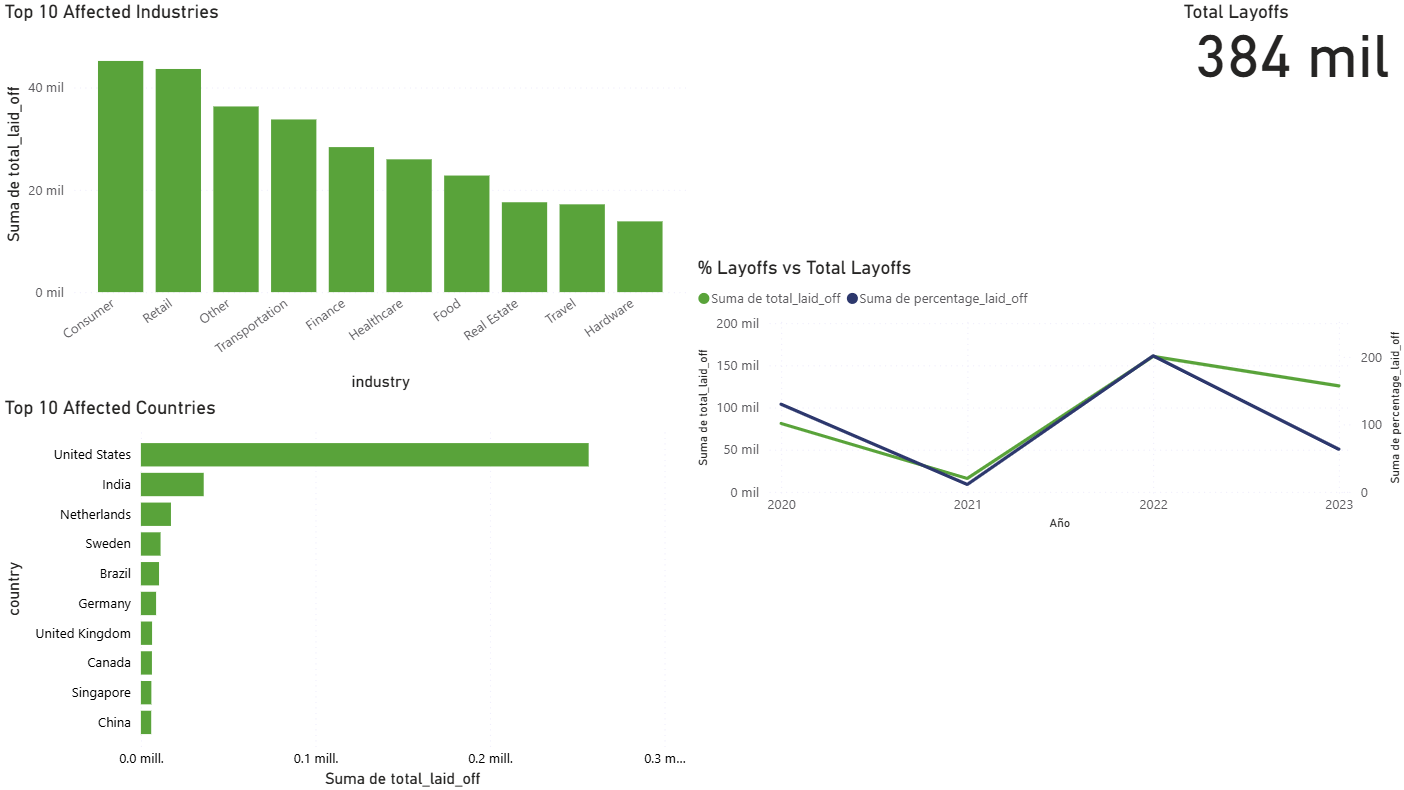

What the dashboard file says about the page in this screenshot:
{"tool":"powerbi","page":{"name":"Página 1","canvas":[1280,720],"ordinal":0},"visuals":[{"type":"clusteredColumnChart","title":"Top 10 Affected Industries","fields":{"Category":["layoffsCLEAN.industry"],"Y":["Sum(layoffsCLEAN.total_laid_off)"]},"box":[0,0,630,359.6],"z":0},{"type":"clusteredBarChart","title":"Top 10 Affected Countries","fields":{"Category":["layoffsCLEAN.country"],"Y":["Sum(layoffsCLEAN.total_laid_off)"]},"box":[0,359.6,630,360.6],"z":1000},{"type":"card","title":"Total Layoffs","fields":{"Values":["Sum(layoffsCLEAN.total_laid_off)"]},"box":[1071.7,0,208.3,89.1],"z":1001},{"type":"lineChart","title":"% Layoffs vs Total Layoffs","fields":{"Category":["layoffsCLEAN.date.Variación.Jerarquía de fechas.Año","layoffsCLEAN.date.Variación.Jerarquía de fechas.Trimestre","layoffsCLEAN.date.Variación.Jerarquía de fechas.Mes","layoffsCLEAN.date.Variación.Jerarquía de fechas.Día"],"Y":["Sum(layoffsCLEAN.total_laid_off)"],"Y2":["Sum(layoffsCLEAN.percentage_laid_off)"]},"box":[630,232.4,650,253.4],"z":1002}]}

Visuals, with their boxes in screenshot pixels (x1, y1, x2, y2), scaled from the page's 1280x720 canvas onto the 1404x790 screenshot:
"Top 10 Affected Industries" clusteredColumnChart: 0/0/691/395
"Top 10 Affected Countries" clusteredBarChart: 0/395/691/789
"Total Layoffs" card: 1176/0/1403/98
"% Layoffs vs Total Layoffs" lineChart: 691/255/1403/533
